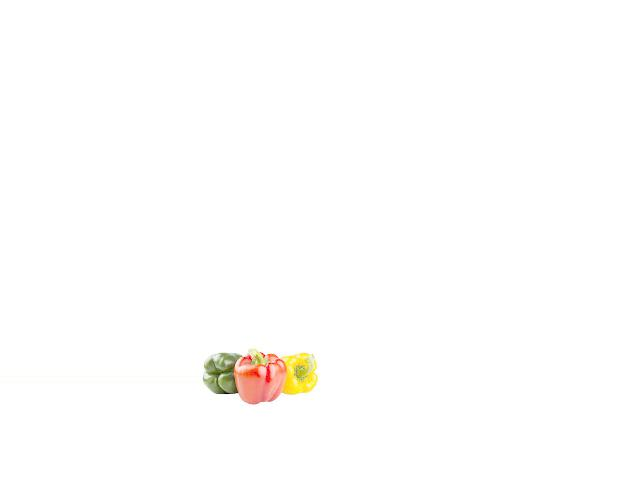bell_pepper: (277, 348, 320, 403)
